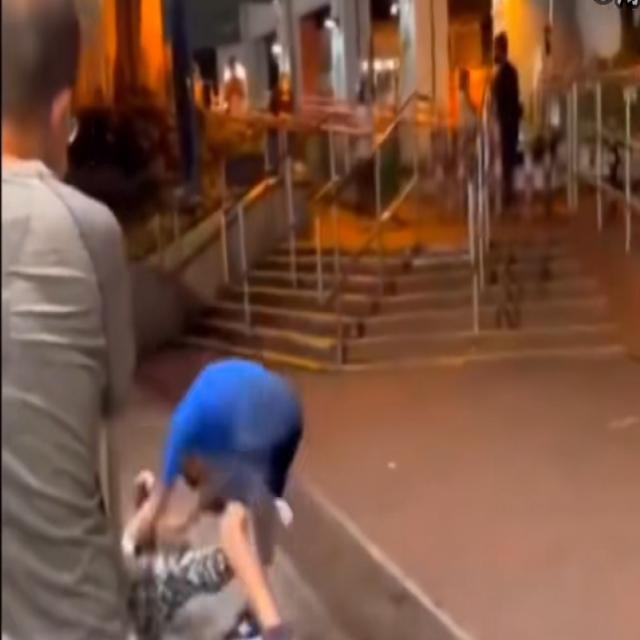fight: (121, 355, 305, 640)
nofight: (0, 11, 127, 615), (489, 26, 533, 218)
